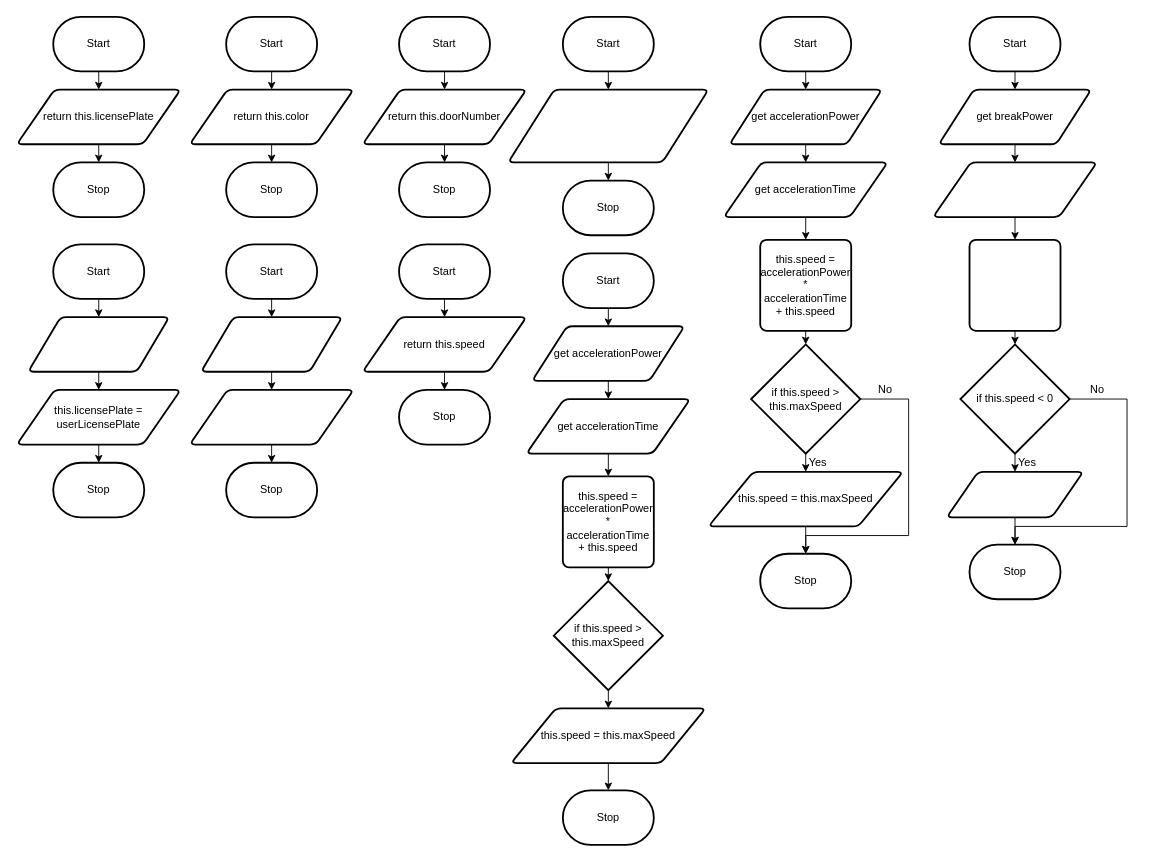
This 1150x861 diagram has some shape labels left out. The centre of each missing label's shape, as x and y in pixels:
Display speed, max speed, door number, license plate, color: point 608,125
get breakTime: point 1014,189
get userColor: point 271,344
get userLicensePlate: point 98,344
this.color = user.color: point 271,417
this.speed = 0: point 1014,494
this.speed = this.speed - breakPower * breakTime: point 1014,284
